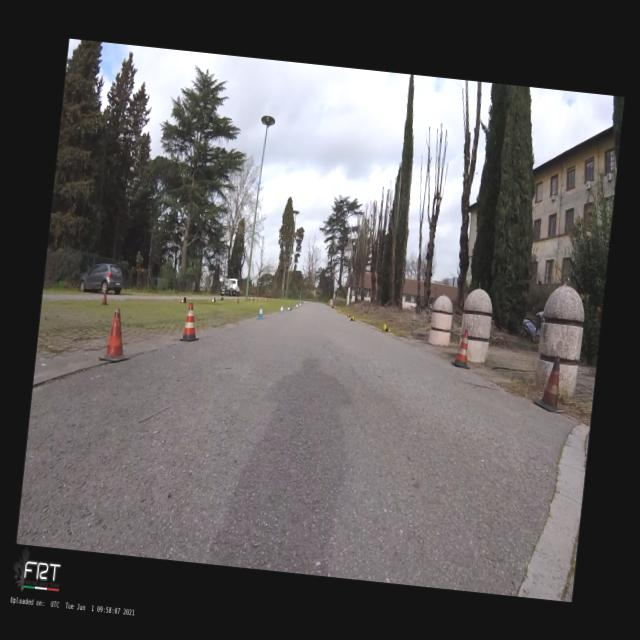blue_cone: (256, 304, 265, 319), (280, 304, 284, 314), (286, 306, 291, 310)
large_orange_cone: (532, 354, 570, 413), (179, 302, 202, 342), (451, 328, 473, 369)
orange_cone: (180, 296, 187, 303), (210, 296, 216, 302)
unknown_cone: (98, 306, 134, 362), (100, 291, 109, 305), (236, 297, 240, 303), (220, 296, 223, 300)
yellow_cone: (381, 322, 391, 332), (348, 314, 356, 321), (346, 312, 351, 317), (338, 309, 340, 314)
